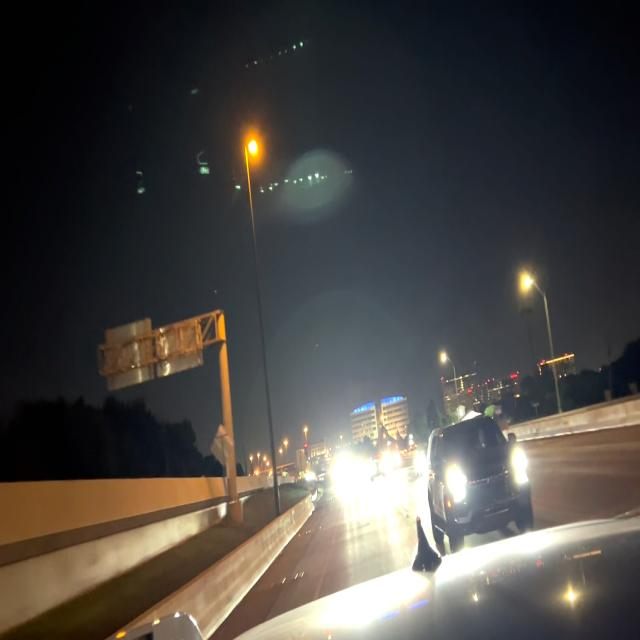back-of-sign: (105, 317, 155, 391), (156, 318, 205, 382), (212, 426, 234, 466)
